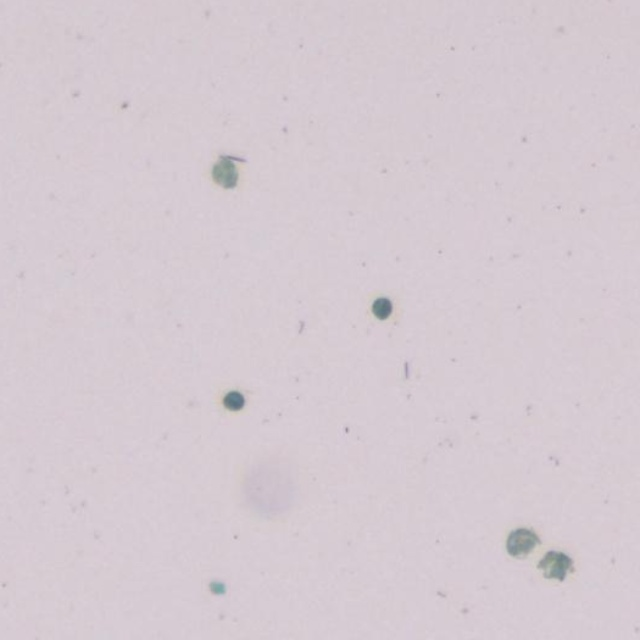non_viable: (538, 551, 573, 580), (506, 528, 539, 557), (212, 156, 238, 188), (223, 390, 244, 410), (372, 297, 391, 318)
